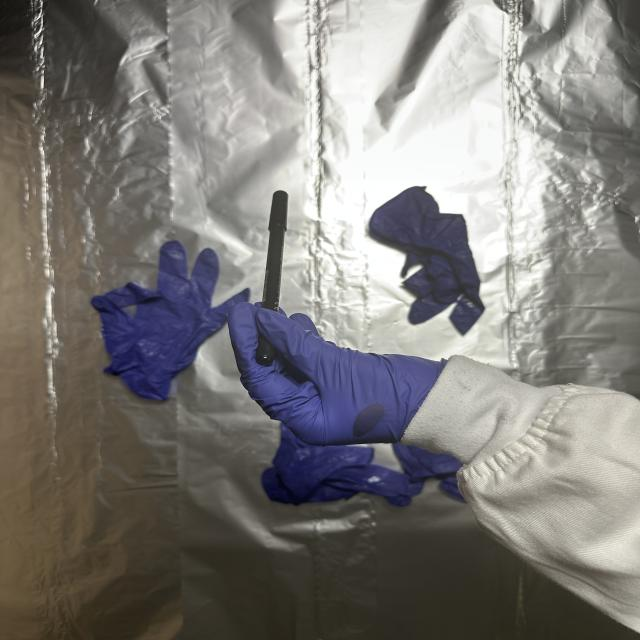gloves_contaminated: (228, 302, 444, 446)
